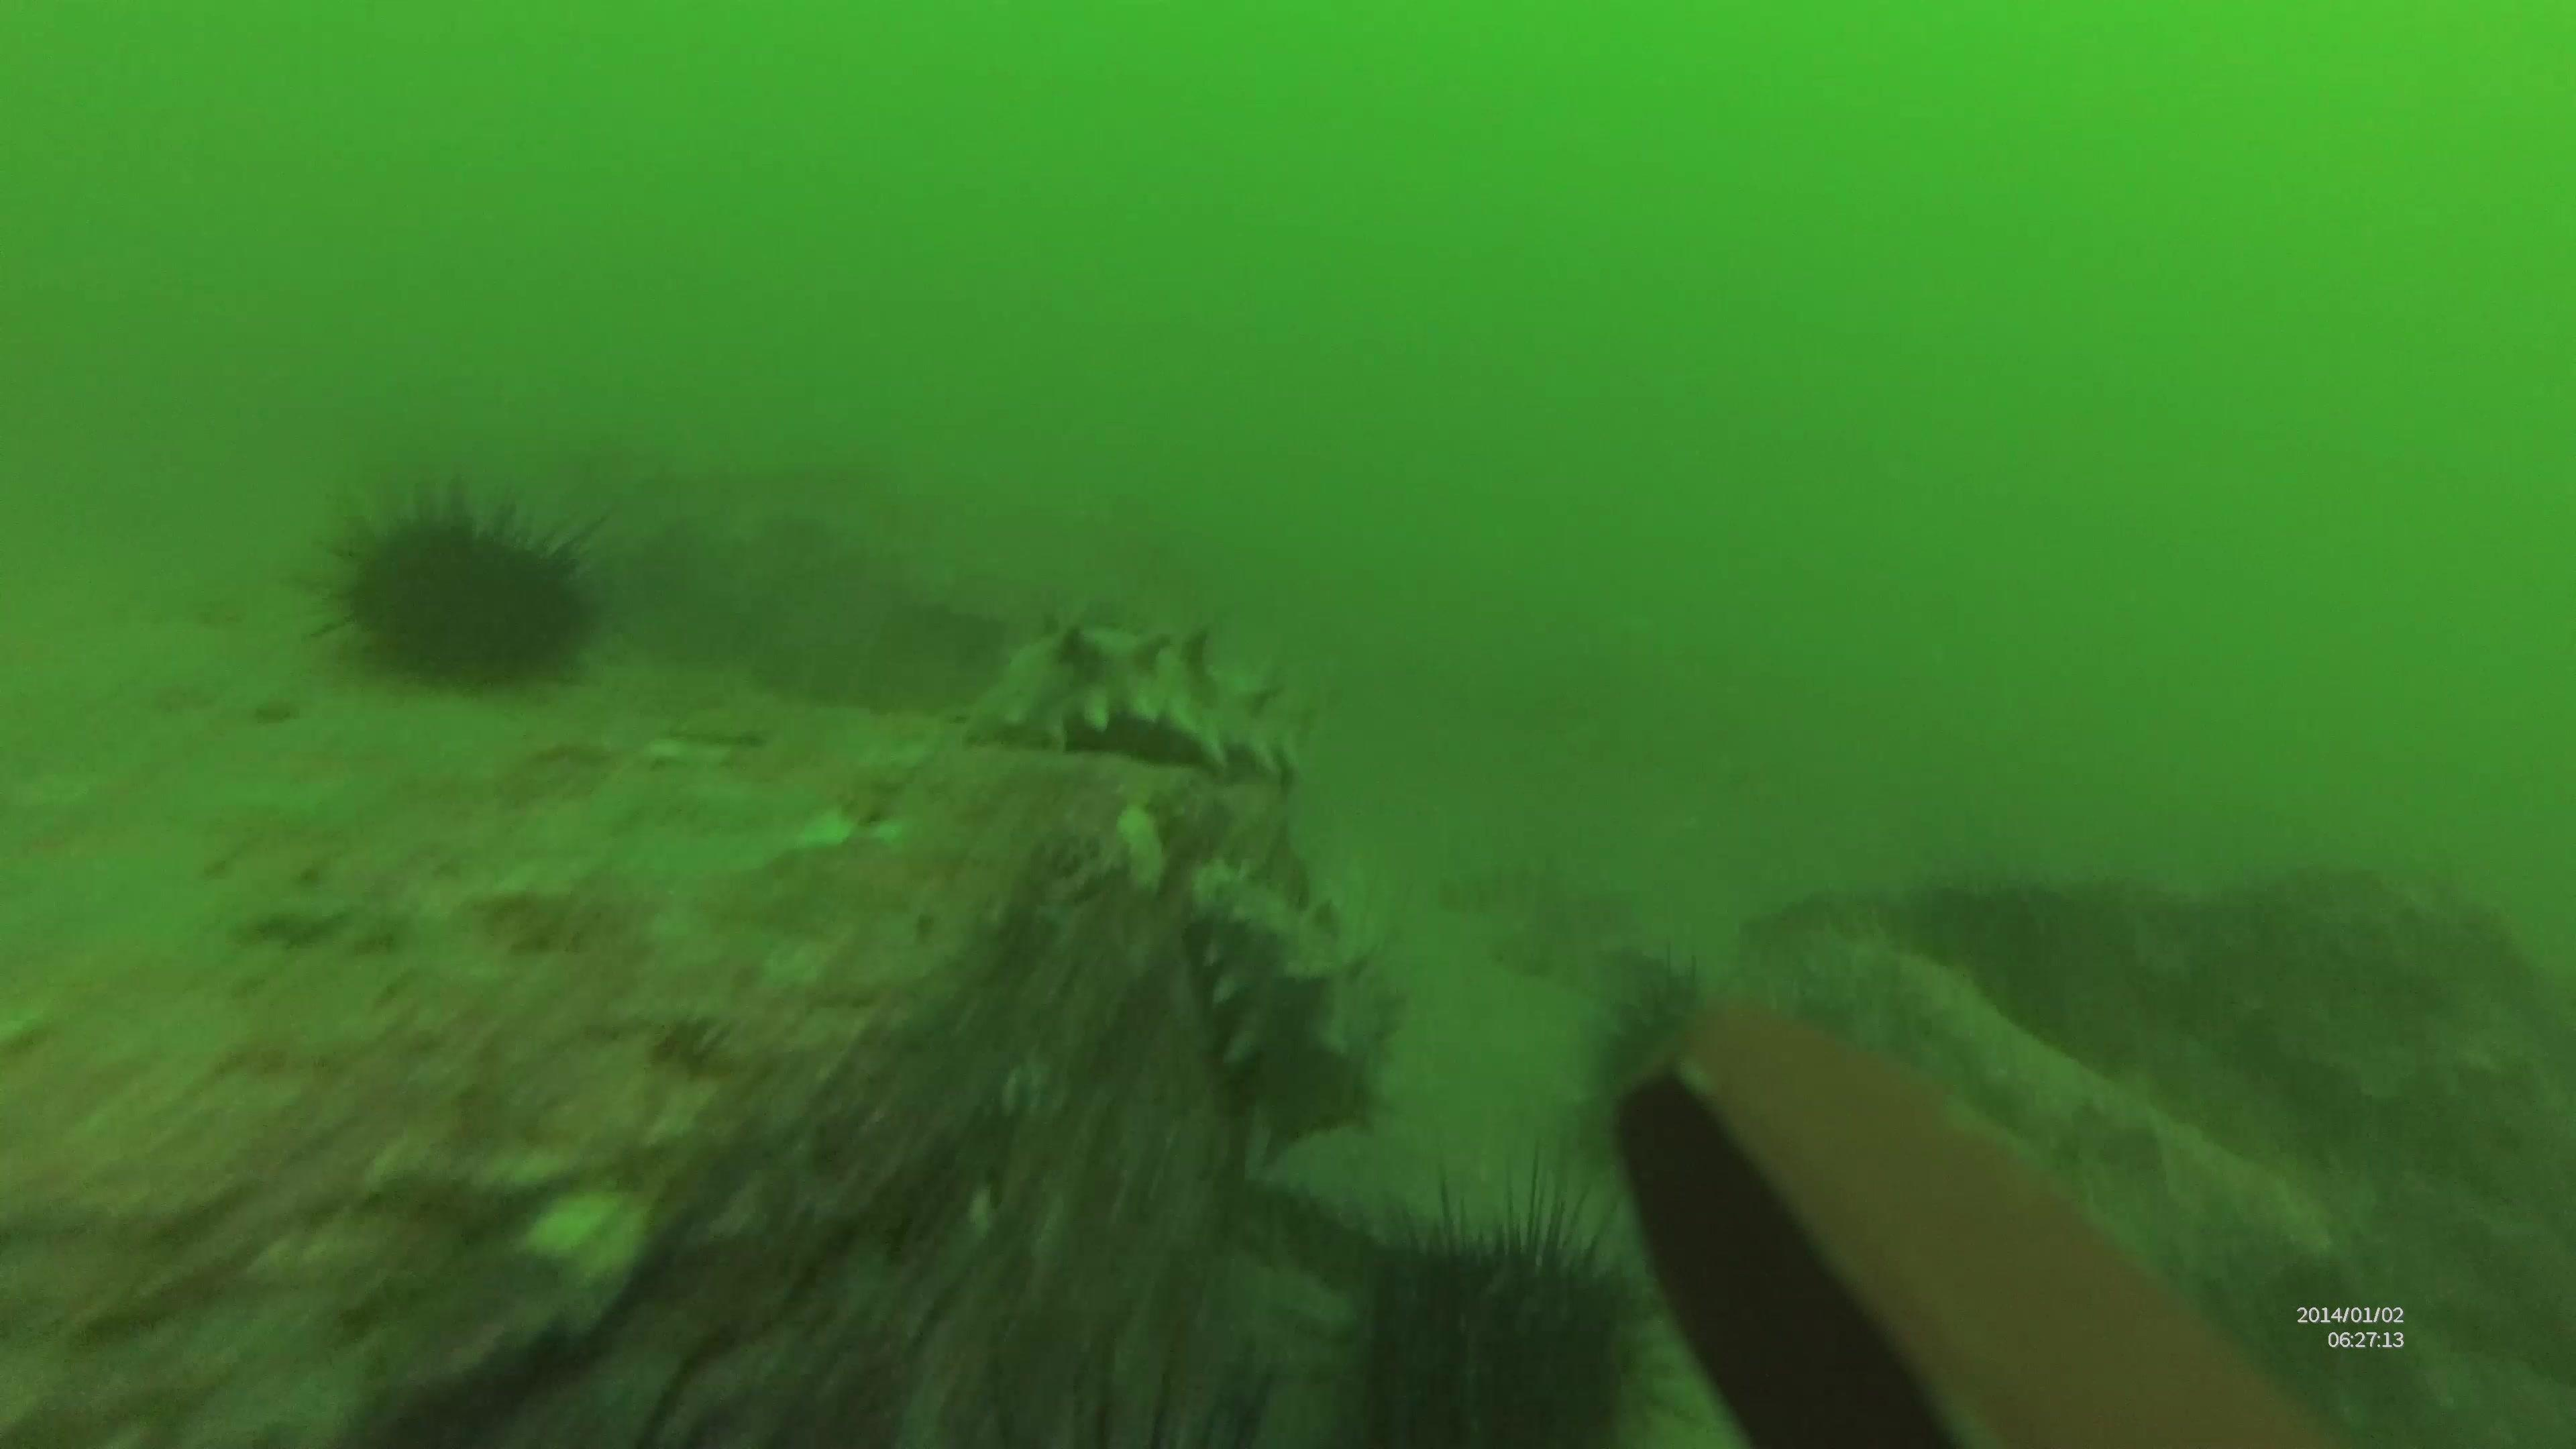echinus: (1292, 1141, 1691, 1449), (299, 472, 621, 725)
holothurian: (1184, 824, 1405, 1123), (968, 616, 1313, 782)
